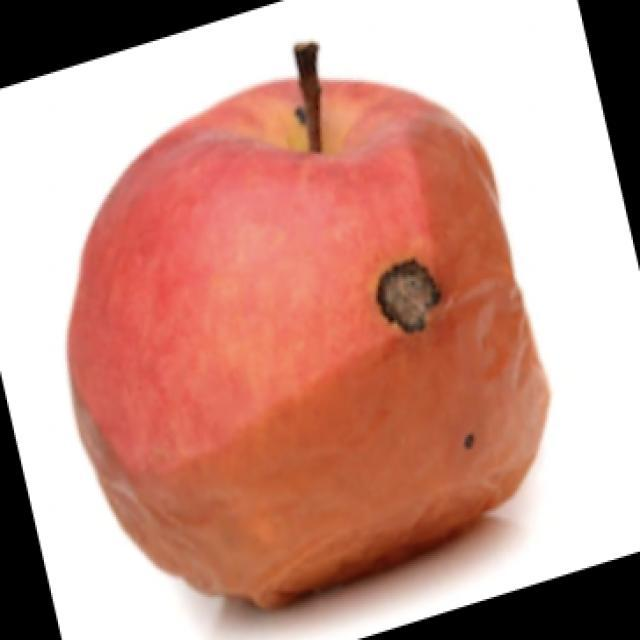Rotten: (48, 76, 549, 640)
